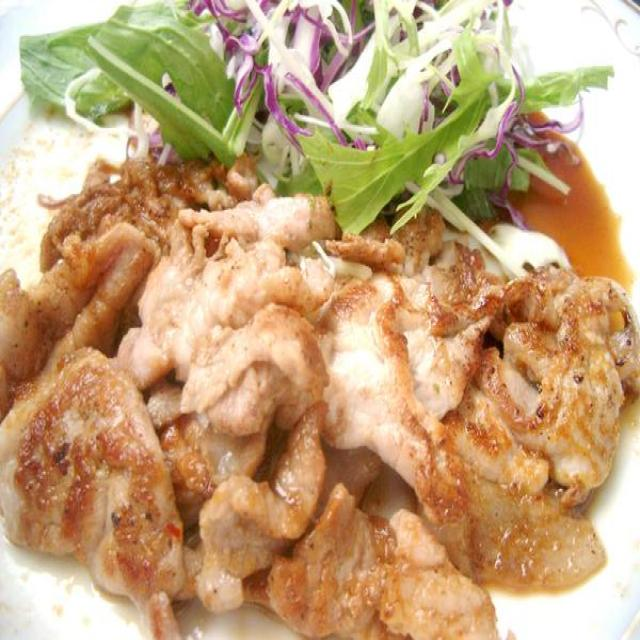猪肉菜式: (0, 99, 640, 640)
